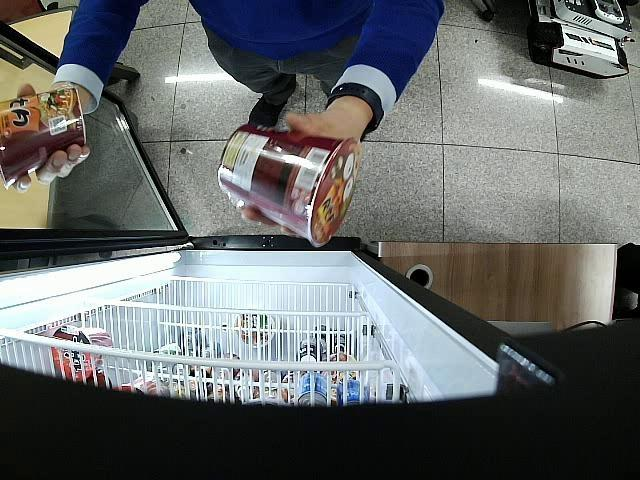06_nuguri_S: (218, 125, 360, 248), (0, 87, 87, 190)
